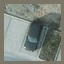car: (24, 19, 42, 53)
